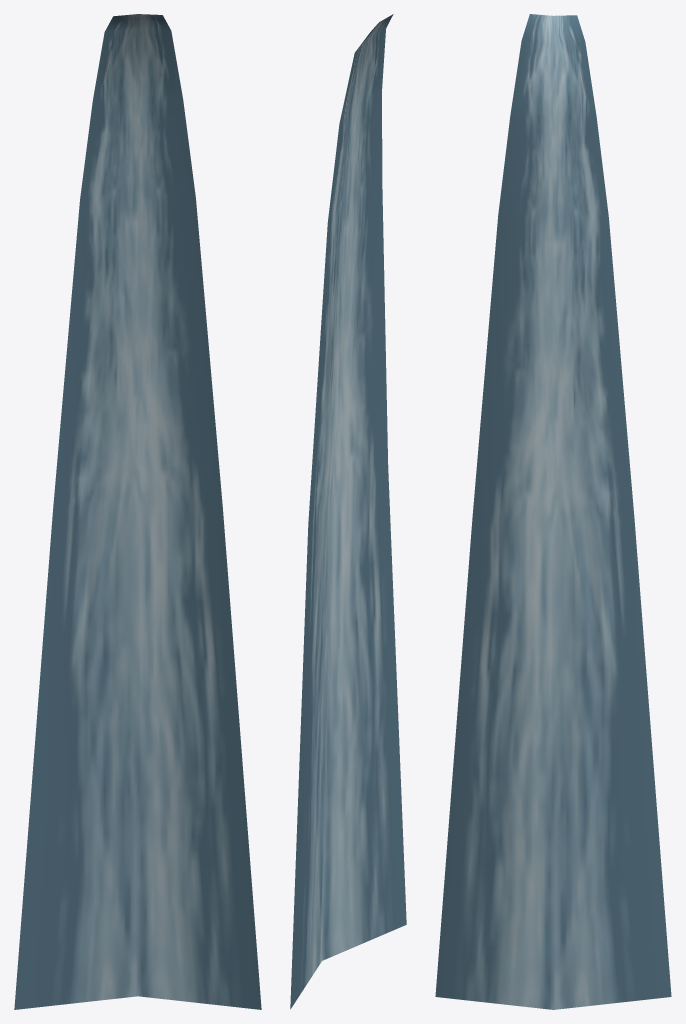
Rendered from pubu.FBX.
The picture shows the model from 3 angles, left to right: view 1: azimuth 90°, elevation 25°; view 2: azimuth 150°, elevation 25°; view 3: azimuth 270°, elevation 25°; orthographic projection. The views are drawn at different scales.
Visible parts, largest first — view 1: water_fall; view 2: water_fall; view 3: water_fall.
Part boxes in pixels (box(x1,y1,x2,y2)): water_fall: box(14, 14, 261, 1009); water_fall: box(290, 14, 406, 1009); water_fall: box(435, 14, 671, 1009).
Bounding box in the file's own units: 139 × 2116 × 469.
